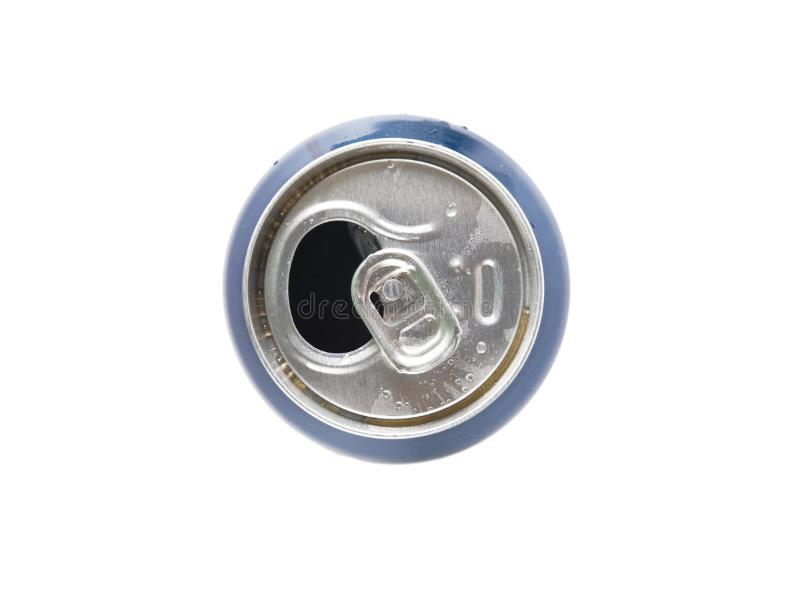can: (221, 115, 570, 468)
